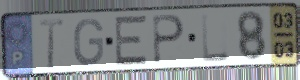8: (236, 8, 269, 63)
E: (114, 14, 150, 68)
G: (72, 17, 106, 68)
L: (199, 11, 231, 64)
P: (151, 13, 187, 65)
T: (37, 17, 66, 71)
